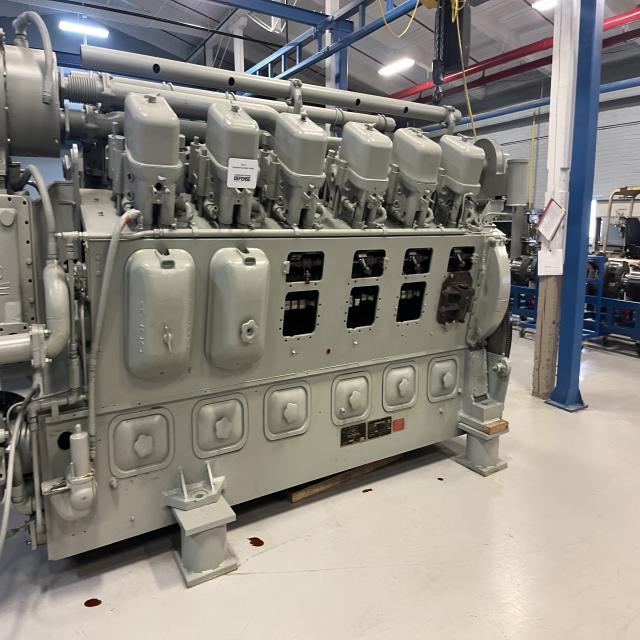Oil Leak: (33, 423, 125, 528), (246, 534, 265, 550), (83, 597, 102, 608), (362, 487, 373, 494), (437, 477, 443, 481)
